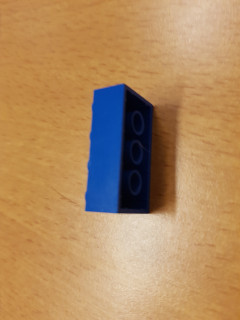2x4 blue: (80, 83, 154, 219)
